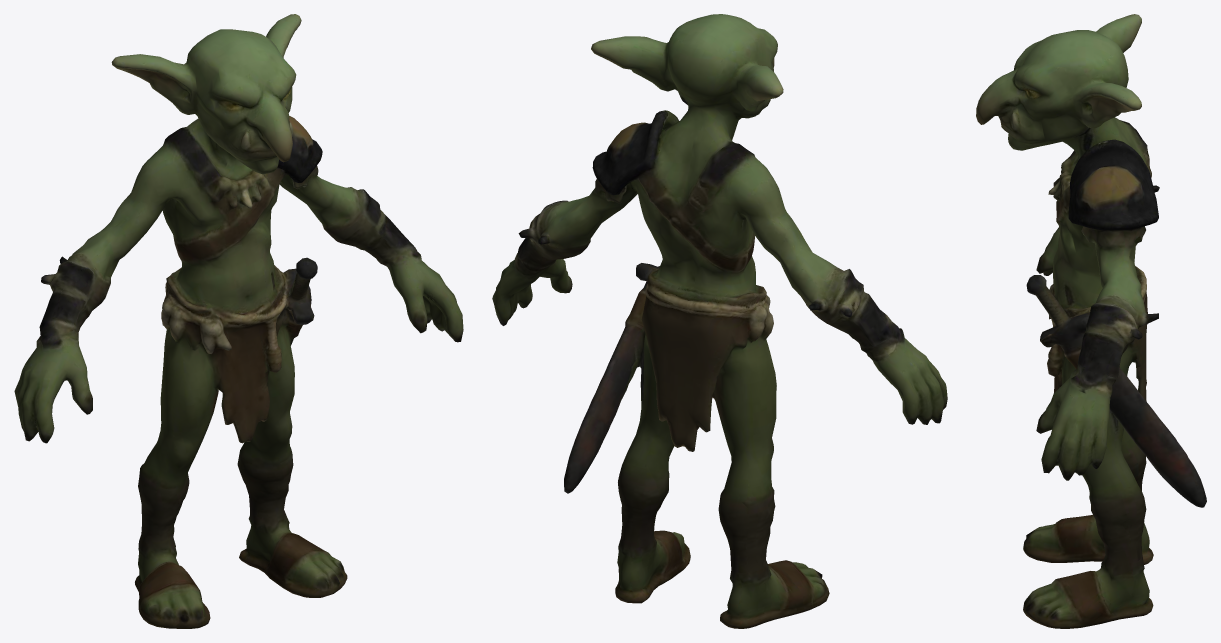
File: Gobelin_Guerrier_mixamo.fbx
3 renders of one model, left to right at view 1: azimuth 30°, elevation 25°; view 2: azimuth 150°, elevation 25°; view 3: azimuth 270°, elevation 25°, orthographic. The views are drawn at different scales.
Visible parts, largest first — view 1: Gobelin_Guerrier; view 2: Gobelin_Guerrier; view 3: Gobelin_Guerrier.
Part boxes in pixels (x1=…): Gobelin_Guerrier: x1=14, y1=14, x2=463, y2=628; Gobelin_Guerrier: x1=492, y1=14, x2=947, y2=628; Gobelin_Guerrier: x1=976, y1=14, x2=1206, y2=628.
Size of the model in its own units: 3.44 by 4.23 by 1.61.
Materials: 1 (1 with a texture image).
